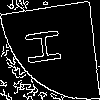H: (25, 25, 70, 67)
